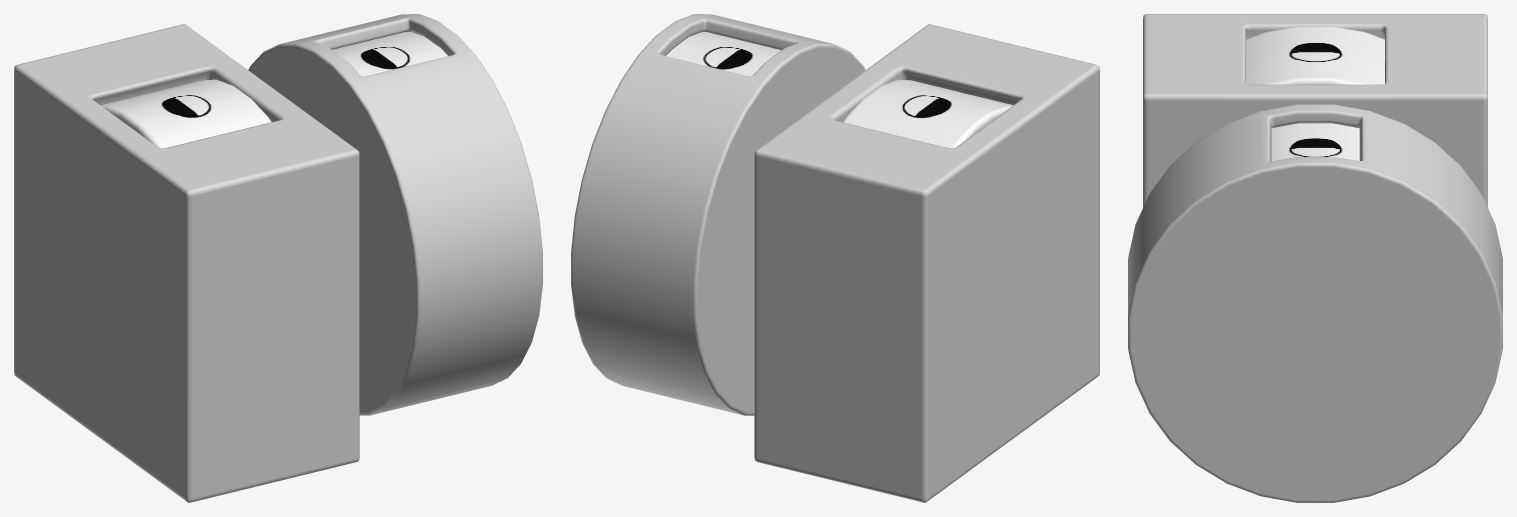
File: CylinderDisplay.fbx
3 renders of one model, left to right at view 1: azimuth 30°, elevation 25°; view 2: azimuth 150°, elevation 25°; view 3: azimuth 270°, elevation 25°, orthographic.
Visible parts, largest first — view 1: Case.001, Case, Drum.001, Drum; view 2: Case.001, Case, Drum.001, Drum; view 3: Case, Case.001, Drum.001, Drum.
Boxes of the visible parts, <box> form: Case.001: <box>14,24,359,502</box>; Case: <box>248,14,542,415</box>; Drum.001: <box>100,79,271,148</box>; Drum: <box>332,32,447,76</box>; Case.001: <box>754,24,1099,502</box>; Case: <box>571,14,865,415</box>; Drum.001: <box>842,79,1013,148</box>; Drum: <box>666,32,780,76</box>; Case: <box>1128,104,1502,502</box>; Case.001: <box>1143,14,1487,207</box>; Drum.001: <box>1246,26,1384,84</box>; Drum: <box>1271,123,1359,161</box>.
Size of the model in its own units: 230 by 217 by 217.
